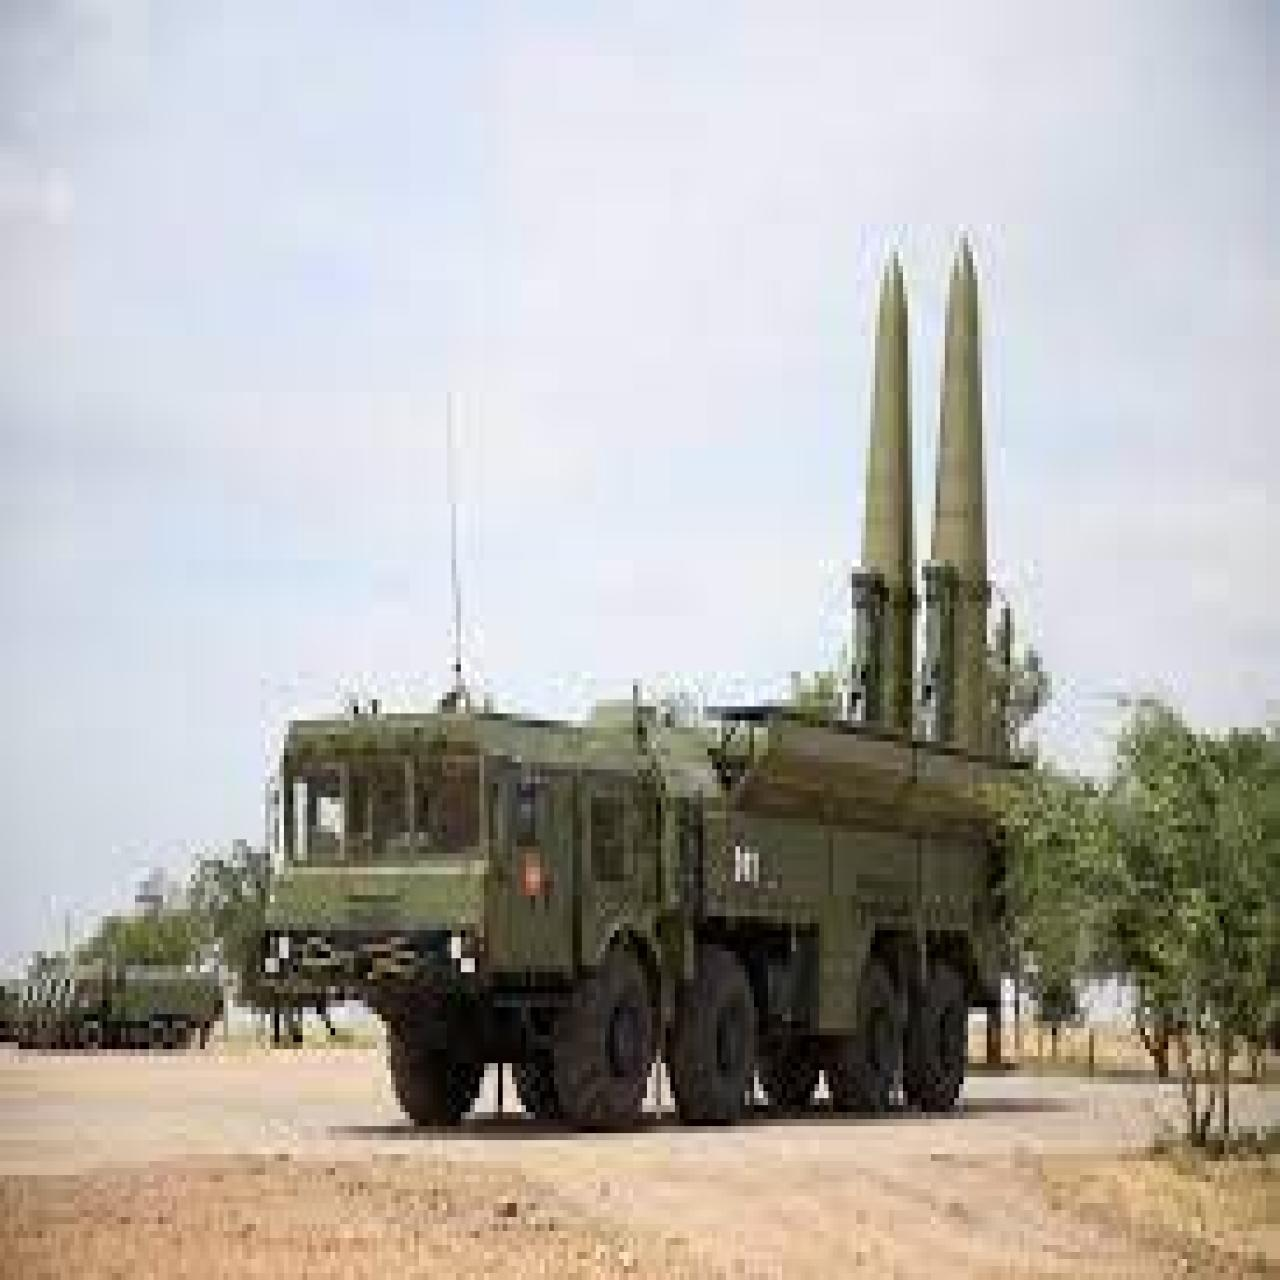MIL_Veh: (274, 248, 992, 1119)
